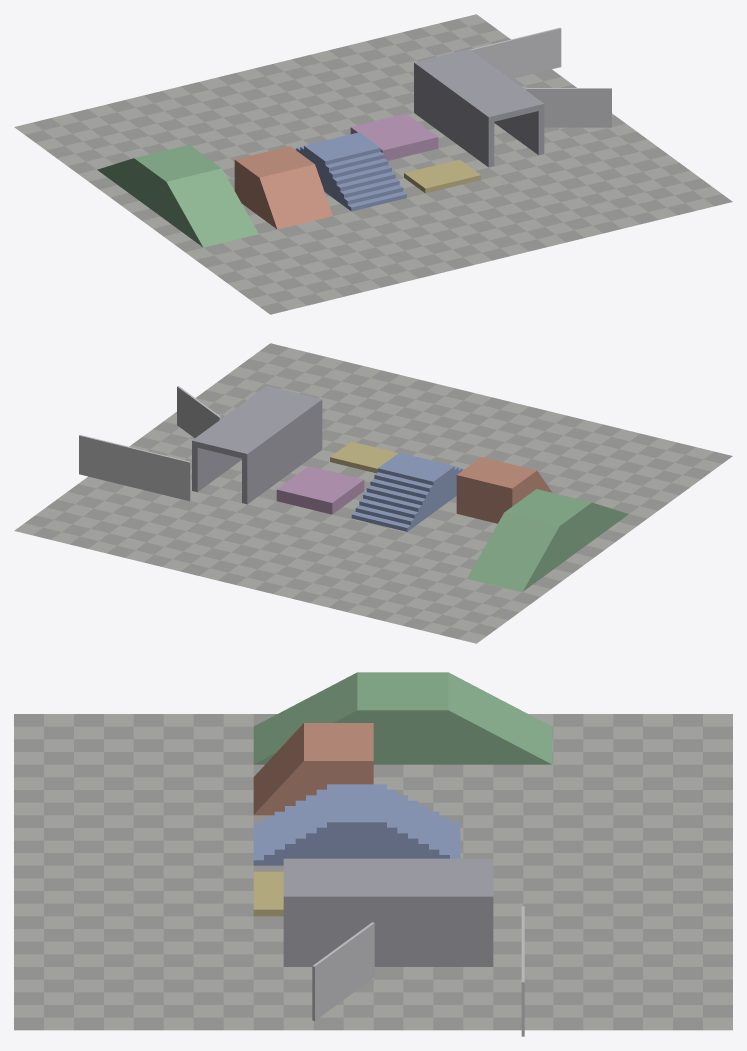
File: MeshCourse.gltf
The picture shows the model from 3 angles, top to bottom: view 1: azimuth 30°, elevation 25°; view 2: azimuth 150°, elevation 25°; view 3: azimuth 270°, elevation 25°; orthographic projection. The views are drawn at different scales.
Parts seen in each view (by area): view 1: MeshCourse; view 2: MeshCourse; view 3: MeshCourse.
Part boxes in pixels (x1,y1,x2,y2): MeshCourse: (14,14,732,314); MeshCourse: (14,343,732,643); MeshCourse: (14,672,732,1036).
Size of the model in its own units: 25.5 by 2.6 by 24.
